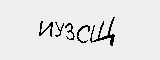З: (64, 20, 76, 41)
И: (36, 19, 53, 38)
С: (74, 22, 91, 45)
У: (52, 18, 64, 41)
Щ: (88, 17, 119, 48)
